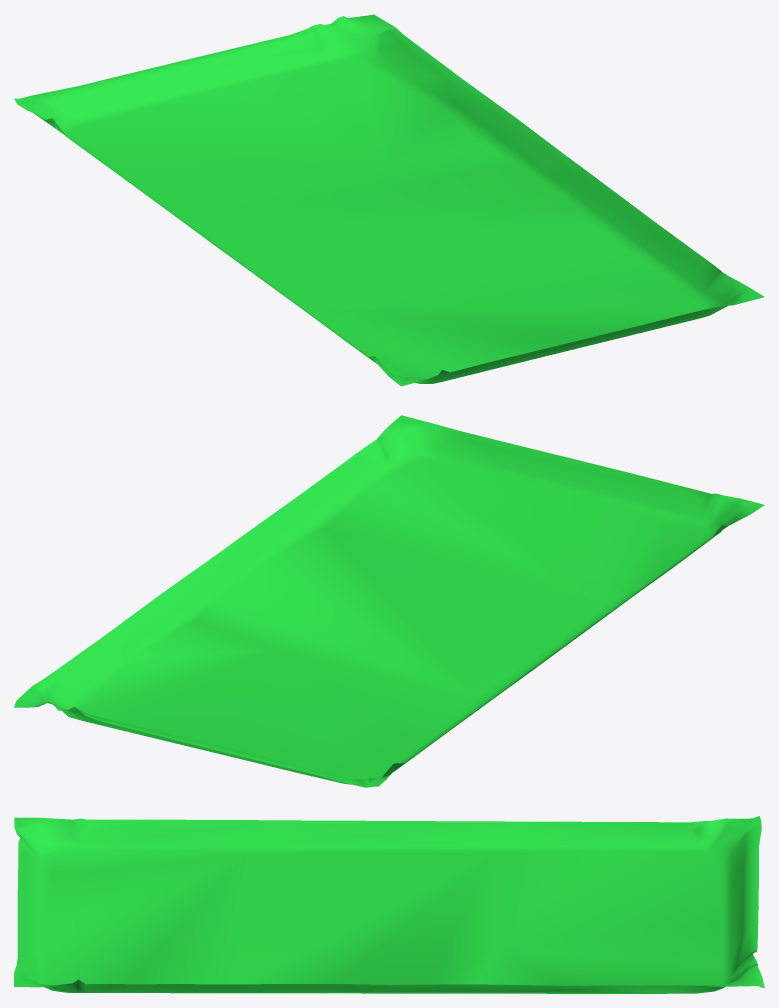
File: SM_Medical_Cart_6_cloth.FBX
3 renders of one model, top to bottom at view 1: azimuth 30°, elevation 25°; view 2: azimuth 150°, elevation 25°; view 3: azimuth 270°, elevation 25°, orthographic. The views are drawn at different scales.
Parts seen in each view (by area): view 1: Medical_Cart_6_cloth; view 2: Medical_Cart_6_cloth; view 3: Medical_Cart_6_cloth.
Part boxes in pixels (left/top/right/bottom): Medical_Cart_6_cloth: left=14, top=14, right=764, bottom=386; Medical_Cart_6_cloth: left=14, top=415, right=764, bottom=787; Medical_Cart_6_cloth: left=14, top=816, right=764, bottom=993.
Bounding box in the file's own units: 80.79 × 151 × 5.52.
